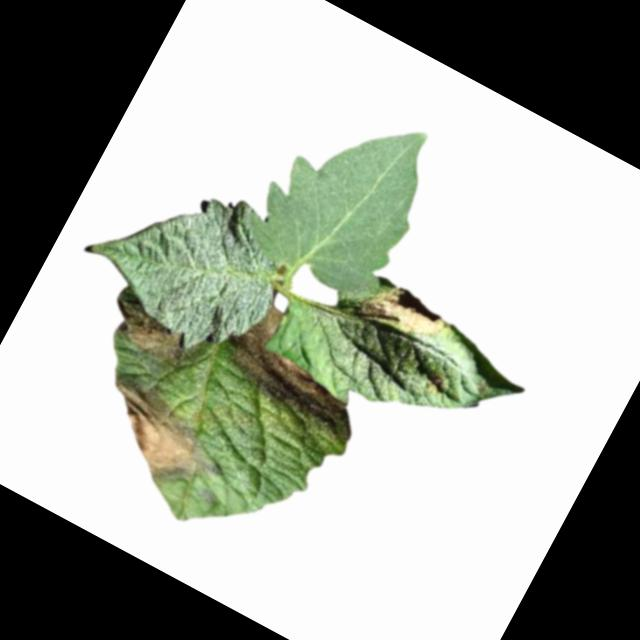Late_blight: (212, 295, 388, 447), (79, 370, 240, 508), (354, 272, 453, 354), (103, 299, 194, 372)
healthy: (67, 144, 302, 371), (236, 77, 455, 311)
